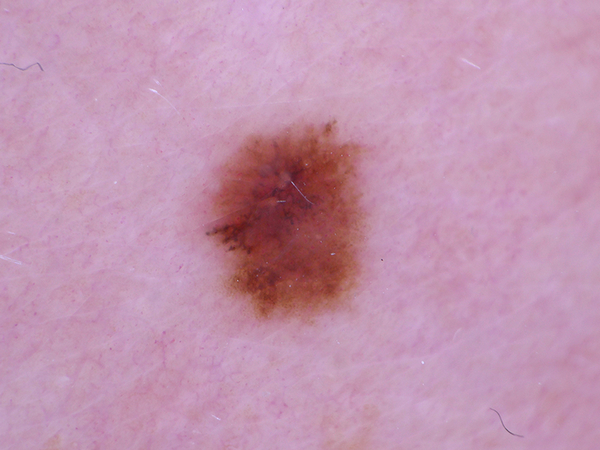Detected Lesion: (202, 115, 371, 323)
